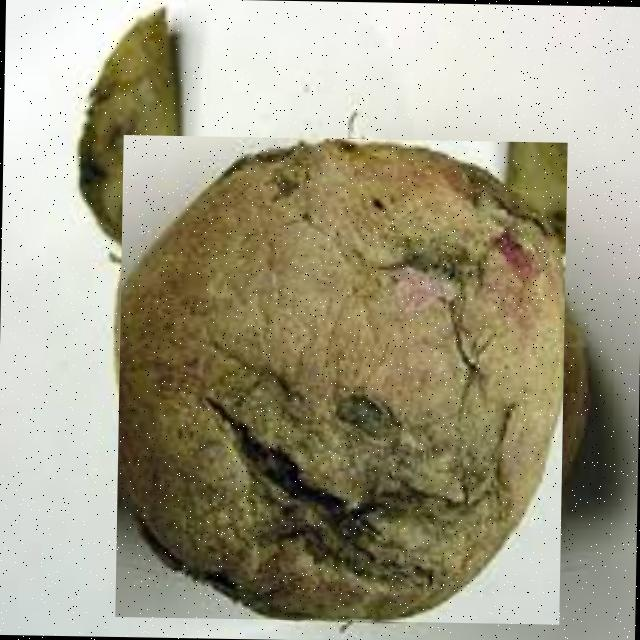Damaged potato: (115, 134, 567, 624)
